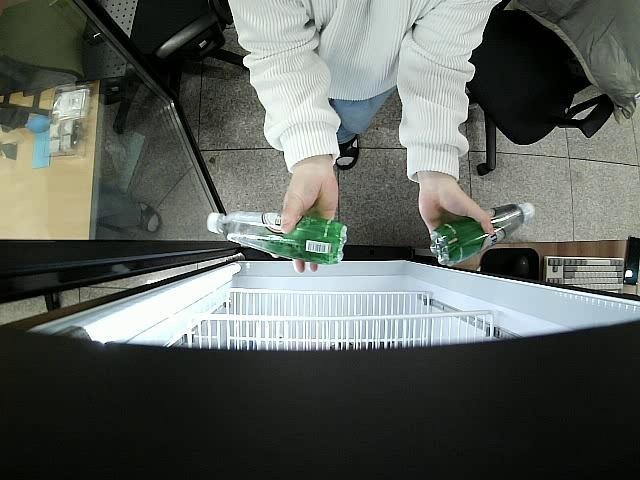18_trevi: (208, 210, 348, 267), (430, 200, 536, 266)
